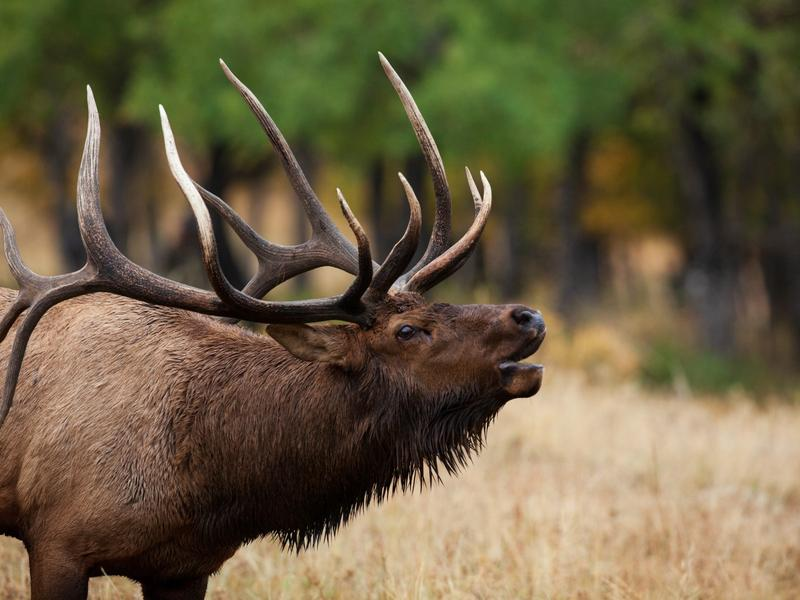elk: (1, 51, 543, 600)
